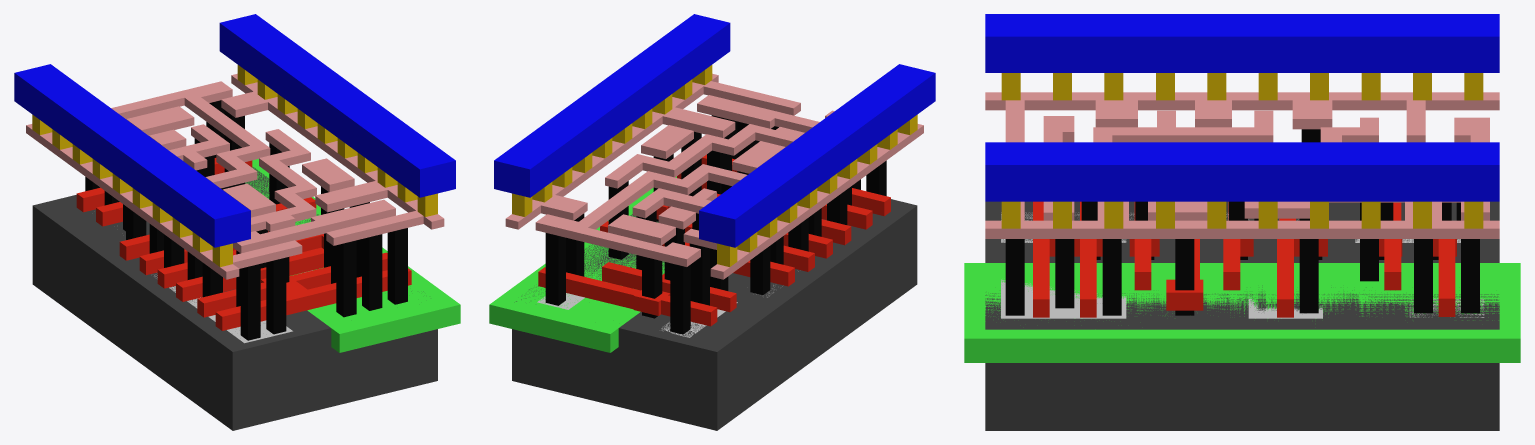
The model's file is sky130_fd_sc_hd__or4bb_2.obj.
3 views of the same model, side by side, from view 1: azimuth 30°, elevation 25°; view 2: azimuth 150°, elevation 25°; view 3: azimuth 270°, elevation 25° (orthographic). The views are drawn at different scales.
Visible parts, largest first — view 1: subs, metal1, li, licon, poly, nwell, mcon, diff; view 2: subs, metal1, li, licon, poly, nwell, mcon; view 3: metal1, subs, nwell, li, licon, poly, mcon, tap.
Boxes of the visible parts, x1,y1,x2,y2 form: subs: (32, 167, 437, 430); metal1: (14, 14, 455, 247); li: (26, 73, 444, 279); licon: (85, 100, 407, 340); poly: (76, 158, 411, 330); nwell: (245, 159, 460, 352); mcon: (32, 65, 437, 266); diff: (154, 274, 292, 343); subs: (512, 199, 917, 430); metal1: (494, 14, 935, 247); li: (505, 73, 923, 279); licon: (545, 115, 886, 334); poly: (538, 154, 890, 326); nwell: (489, 176, 676, 352); mcon: (512, 65, 917, 266); metal1: (985, 14, 1499, 201); subs: (985, 201, 1499, 430); nwell: (964, 263, 1520, 362); li: (985, 92, 1499, 238); licon: (1005, 129, 1479, 315); poly: (1033, 201, 1456, 317); mcon: (1001, 73, 1483, 228); tap: (1001, 279, 1484, 318).
Size of the model in its own units: 3.2 by 2.74 by 4.98.
